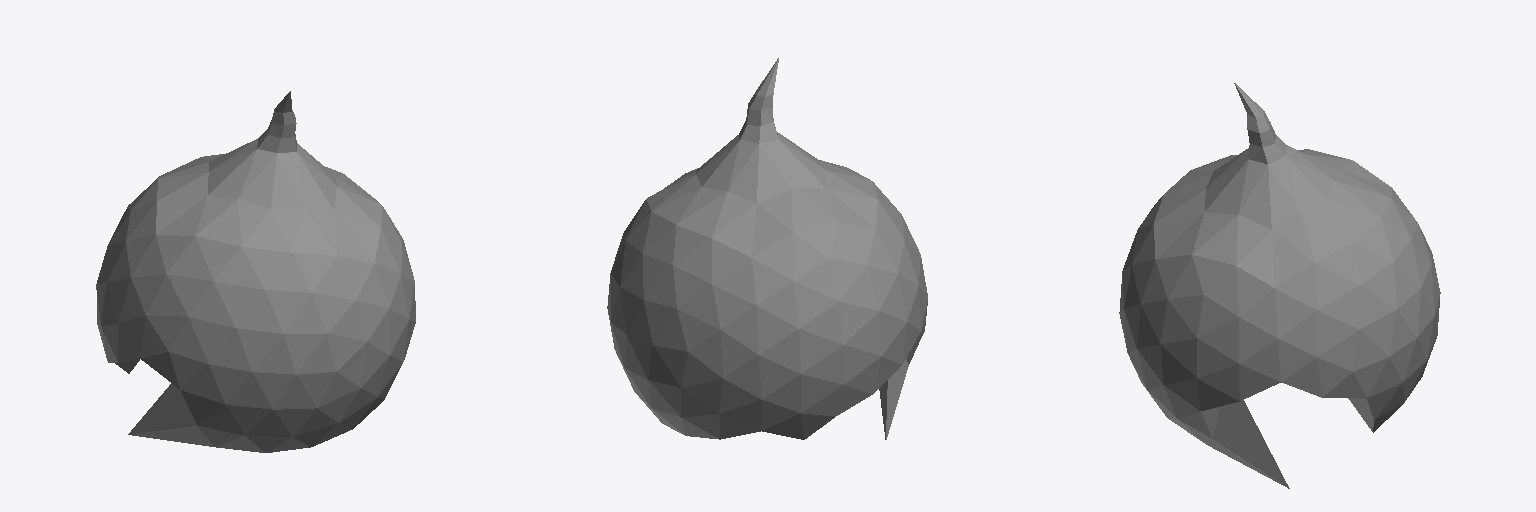
Rendered from enemy2.obj.
The picture shows the model from 3 angles: view 1: azimuth 30°, elevation 25°; view 2: azimuth 150°, elevation 25°; view 3: azimuth 270°, elevation 25°; orthographic projection.
Visible parts, largest first — view 1: GeoSphere001; view 2: GeoSphere001; view 3: GeoSphere001.
Part boxes in pixels (left/top/right/bottom): GeoSphere001: left=96, top=91, right=415, bottom=452; GeoSphere001: left=607, top=58, right=927, bottom=439; GeoSphere001: left=1119, top=83, right=1440, bottom=488.
Bounding box in the file's own units: 9.25 × 11.48 × 9.28.